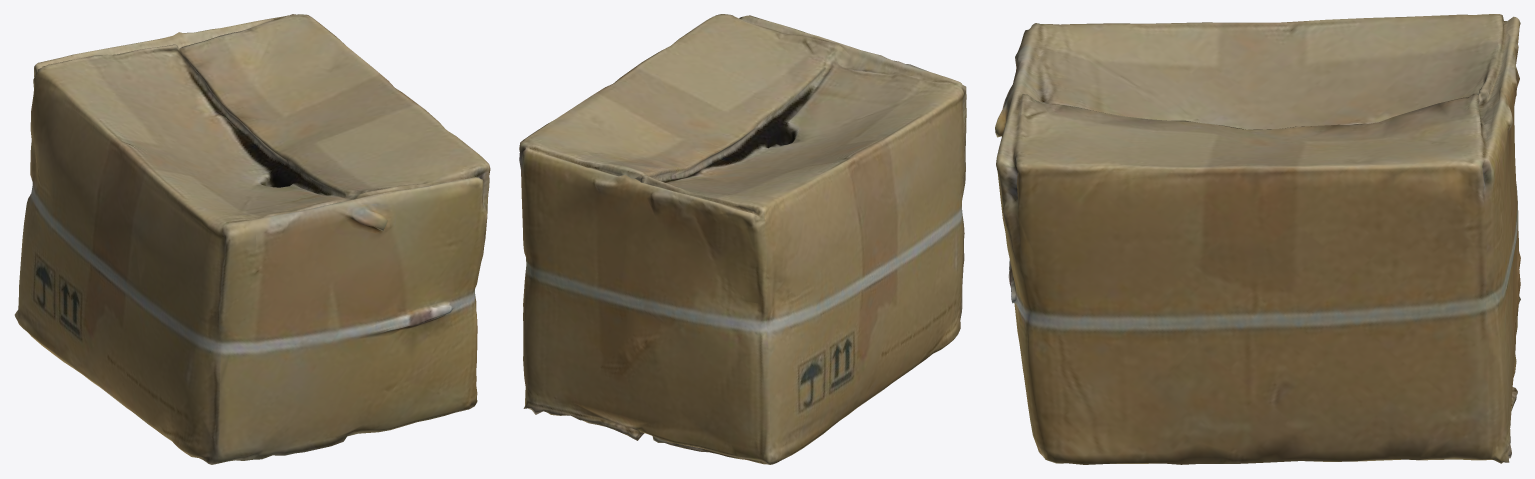
File: cardboard.glb
3 renders of one model, left to right at view 1: azimuth 30°, elevation 25°; view 2: azimuth 150°, elevation 25°; view 3: azimuth 270°, elevation 25°, orthographic. The views are drawn at different scales.
Size of the model in its own units: 0.3868 by 0.3418 by 0.5159.
1 material, 1 textured.
